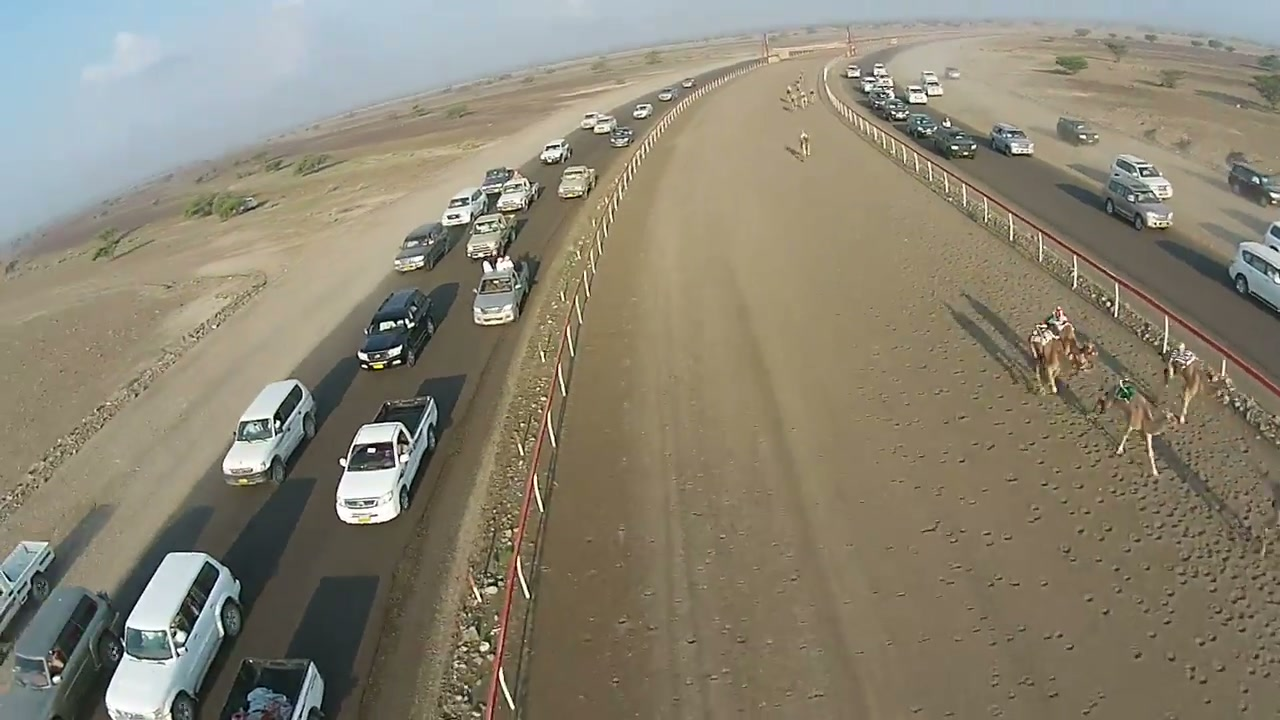animal_foot_print: (1011, 357, 1279, 713)
